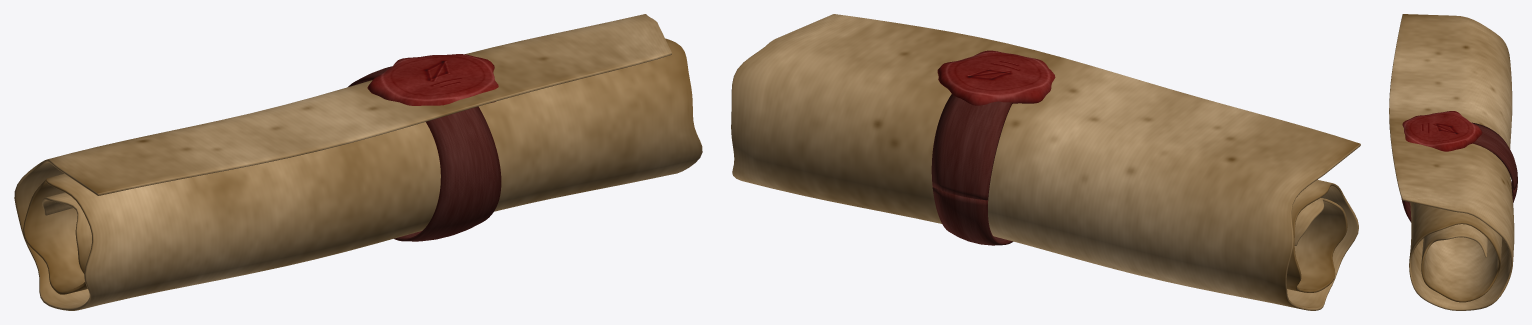
File: unveiling_scroll.glb
3 views of the same model, side by side, from view 1: azimuth 30°, elevation 25°; view 2: azimuth 150°, elevation 25°; view 3: azimuth 270°, elevation 25° (orthographic). The views are drawn at different scales.
Parts seen in each view (by area): view 1: Rolled parchment, Wrapped linen ribbon, Impressed wax seal; view 2: Rolled parchment, Wrapped linen ribbon, Impressed wax seal; view 3: Rolled parchment, Impressed wax seal, Wrapped linen ribbon.
Boxes of the visible parts, x1=… form: Rolled parchment: x1=14, y1=14, x2=702, y2=310; Wrapped linen ribbon: x1=348, y1=66, x2=501, y2=241; Impressed wax seal: x1=367, y1=54, x2=498, y2=105; Rolled parchment: x1=731, y1=14, x2=1360, y2=310; Wrapped linen ribbon: x1=931, y1=94, x2=1013, y2=245; Impressed wax seal: x1=937, y1=50, x2=1055, y2=105; Rolled parchment: x1=1389, y1=14, x2=1514, y2=310; Impressed wax seal: x1=1402, y1=111, x2=1482, y2=151; Wrapped linen ribbon: x1=1401, y1=122, x2=1517, y2=222.
Bounding box in the file's own units: 0.2827 × 0.0732 × 0.0766.
3 materials, 3 textured.
